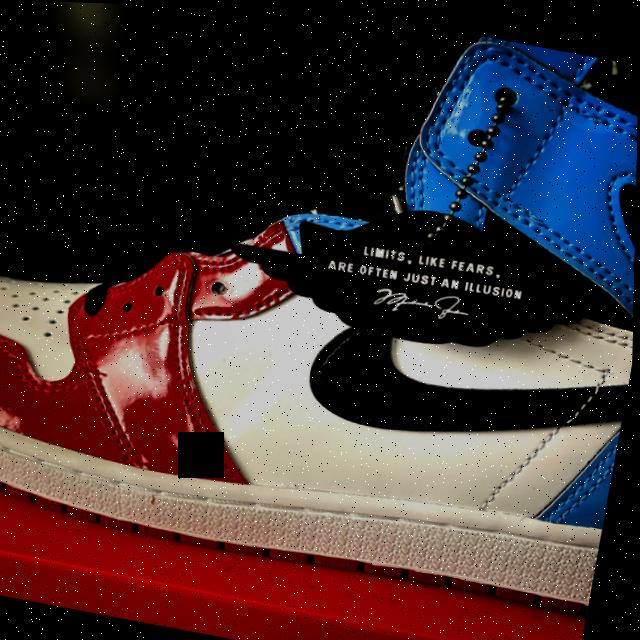shoes: (0, 0, 640, 614)
